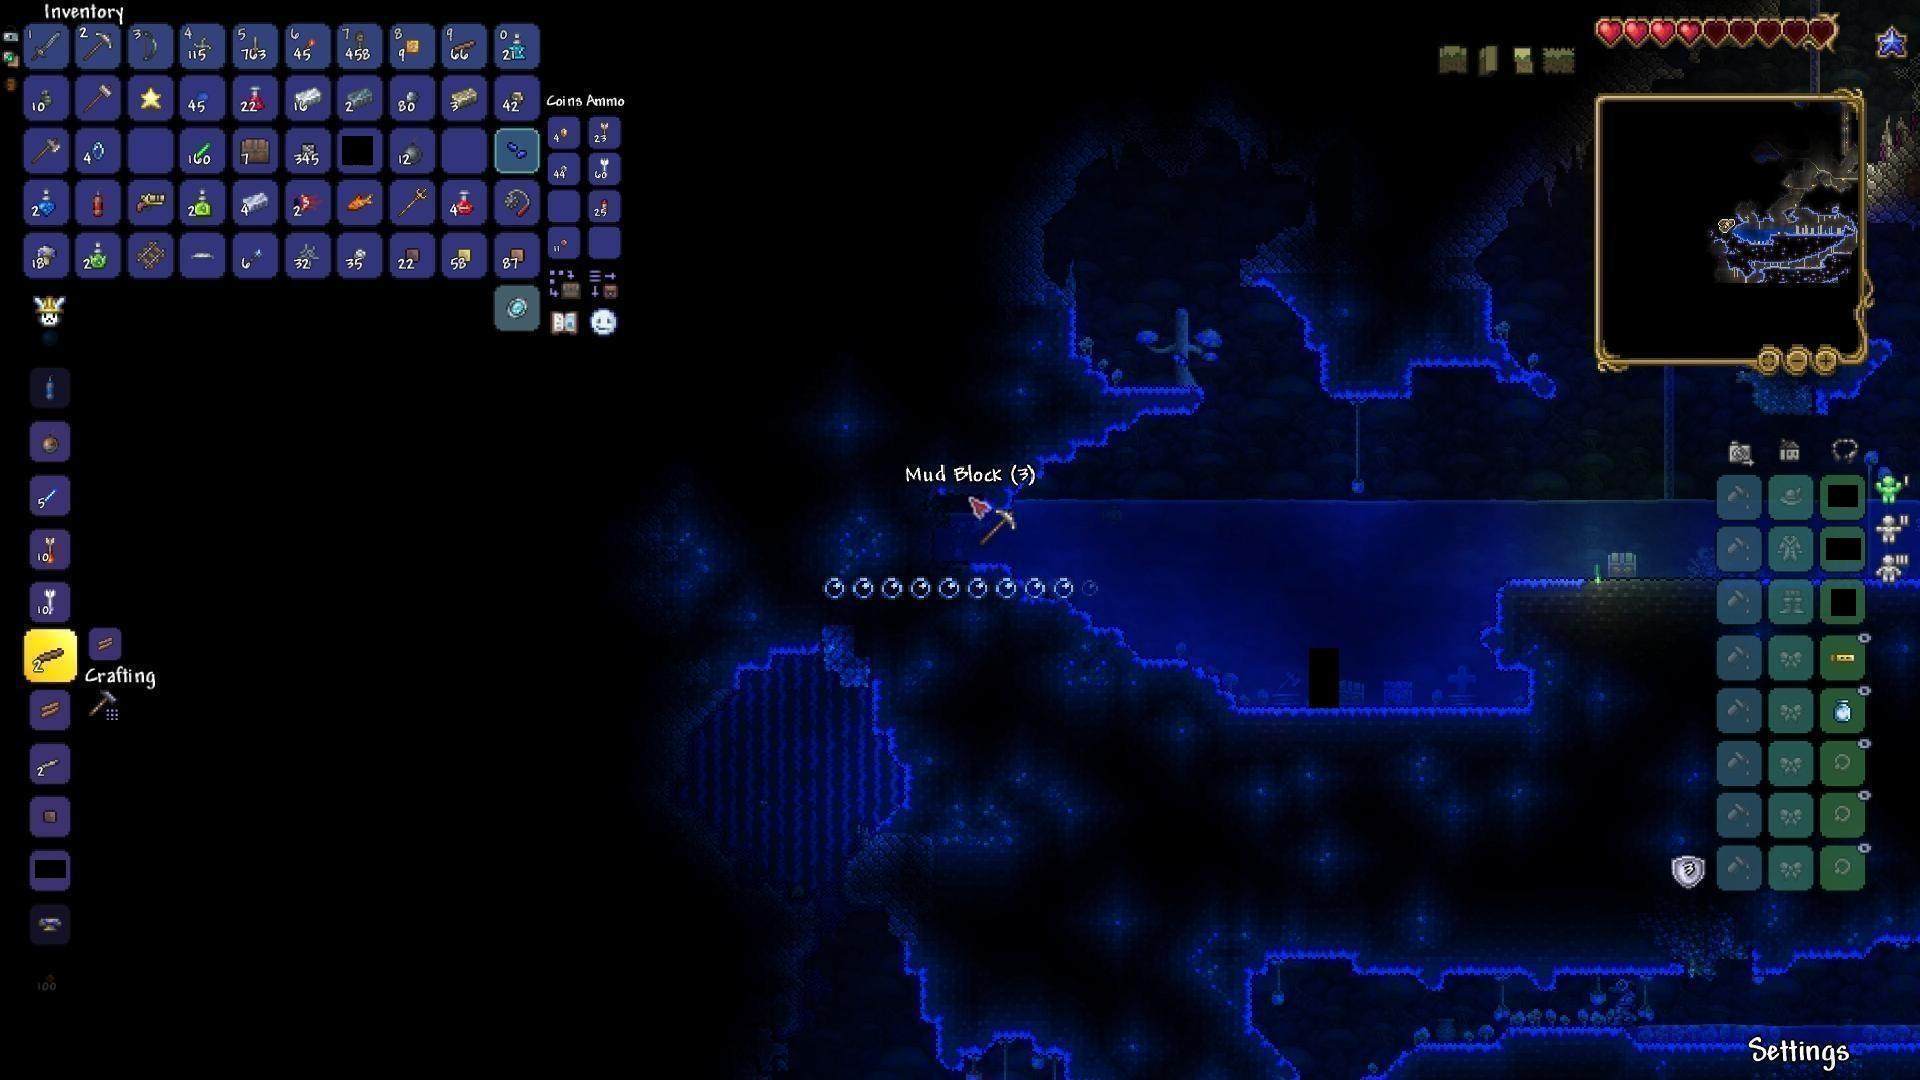wood: (34, 692, 65, 720), (91, 633, 120, 661)
